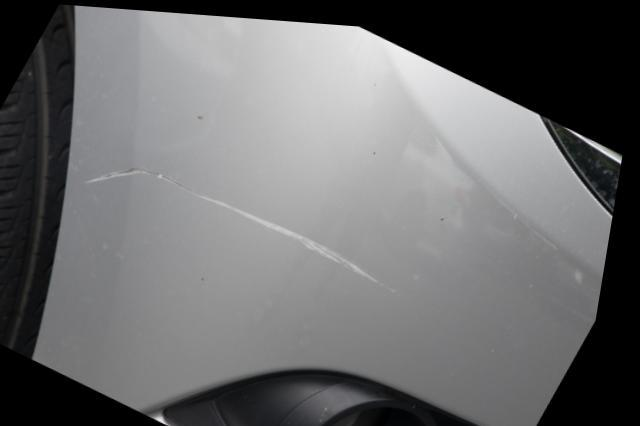scratch: (85, 161, 405, 286)
